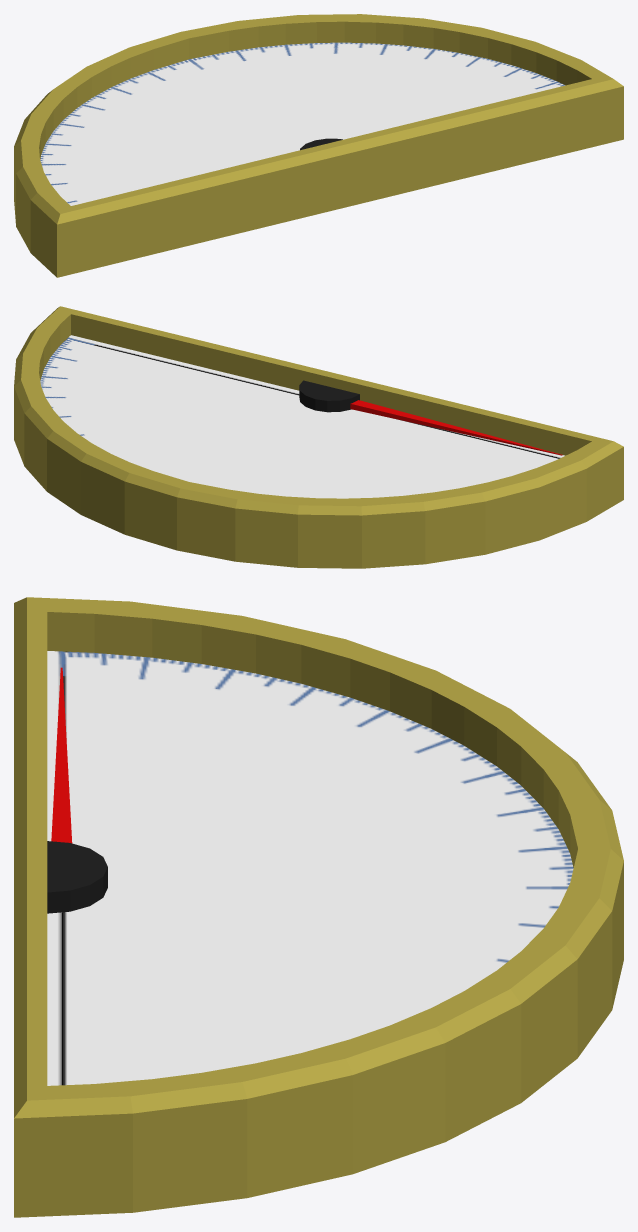
File: gauge.fbx
The picture shows the model from 3 angles, top to bottom: view 1: azimuth 30°, elevation 25°; view 2: azimuth 150°, elevation 25°; view 3: azimuth 270°, elevation 25°; orthographic projection. The views are drawn at different scales.
Visible parts, largest first — view 1: Body; view 2: Body, Needle, NeedleWheel; view 3: Body, NeedleWheel, Needle.
Part boxes in pixels (<box>): Body: <box>14,14,623,277</box>; Body: <box>14,306,623,568</box>; Needle: <box>350,400,562,455</box>; NeedleWheel: <box>299,380,359,412</box>; Body: <box>14,597,623,1217</box>; NeedleWheel: <box>47,841,107,913</box>; Needle: <box>51,667,72,843</box>.
Bounding box in the file's own units: 20 × 2.01 × 10.
